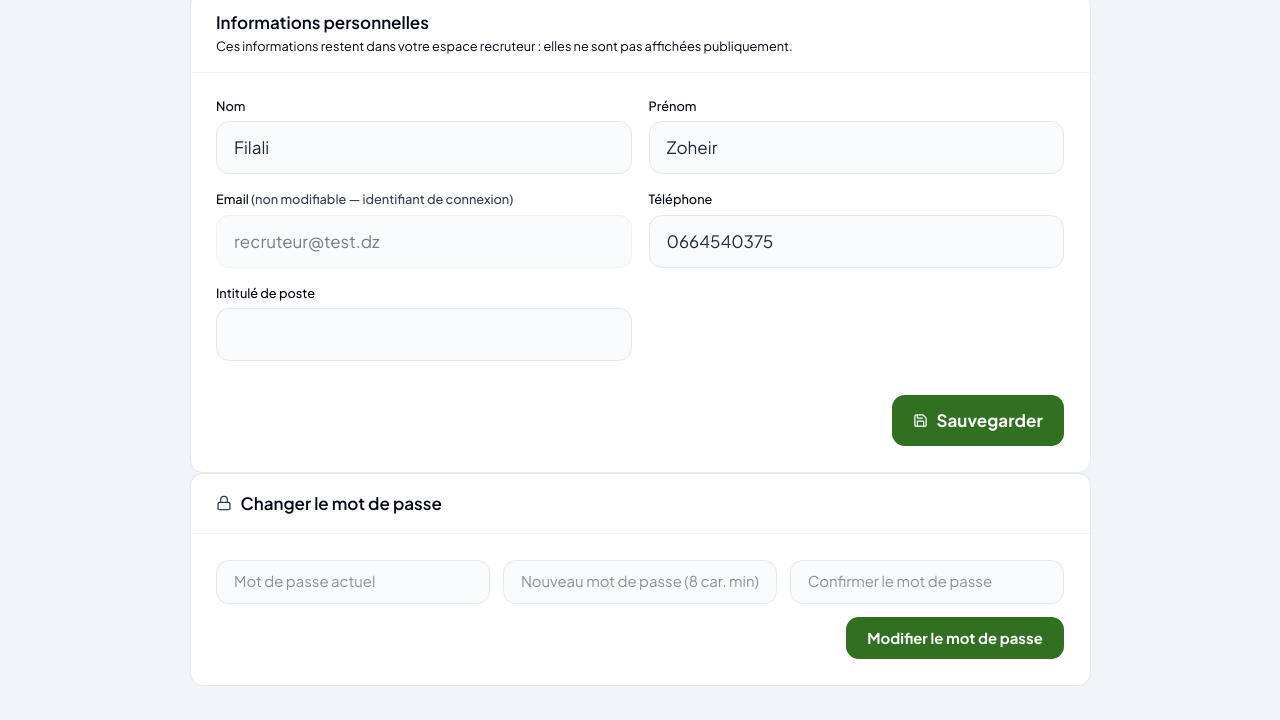
Test: ⚙️ UI & Logique - Composant <ParametresRecruteur /> › 🔴 MDP2 : Mots de passe ne correspondent pas → message sous le champ sans appel API
(page scrolled)
Expected: the field showing "Zoheir" below "Prénom" is shown, 648,122 -> 1064,174
In the password field with placeholder "Nouveau mot de passe (8 car. min)": x=640, y=582 503,560 -> 777,604, type "NouveauMdp456!"
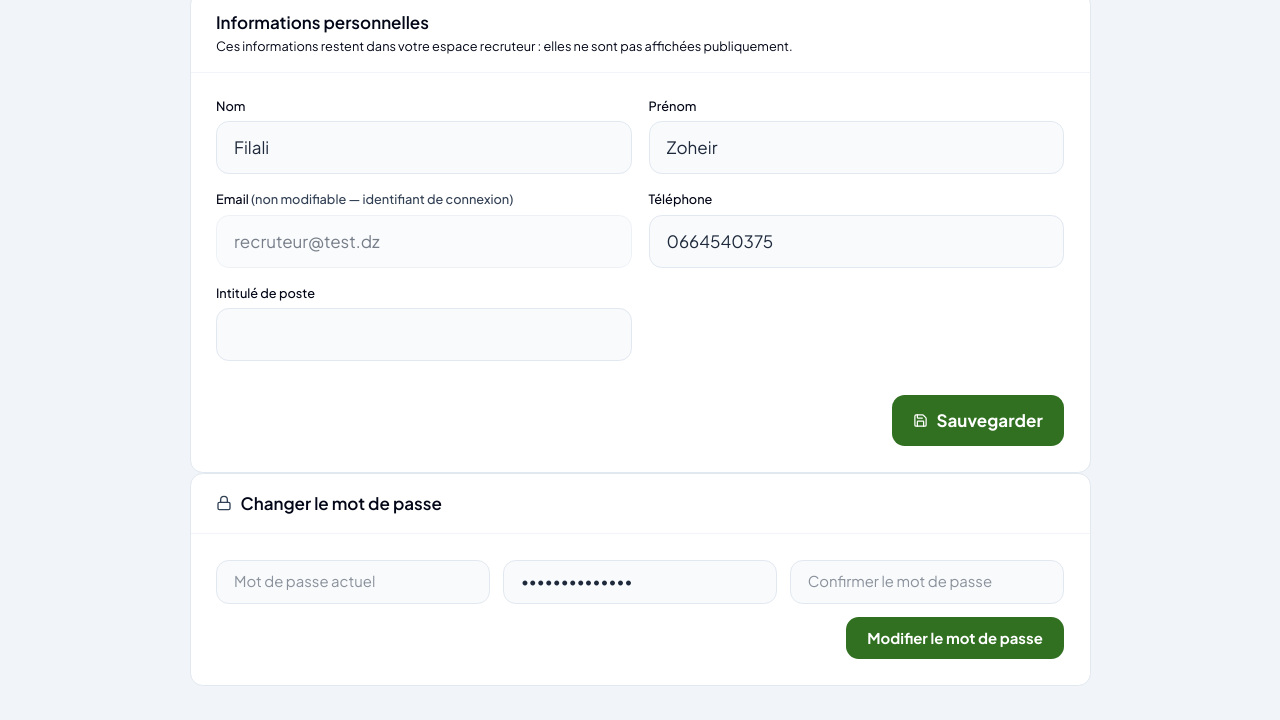
In the password field with placeholder "Confirmer le mot de passe": x=927, y=582 790,560 -> 1064,604, type "DifferentMdp999!"
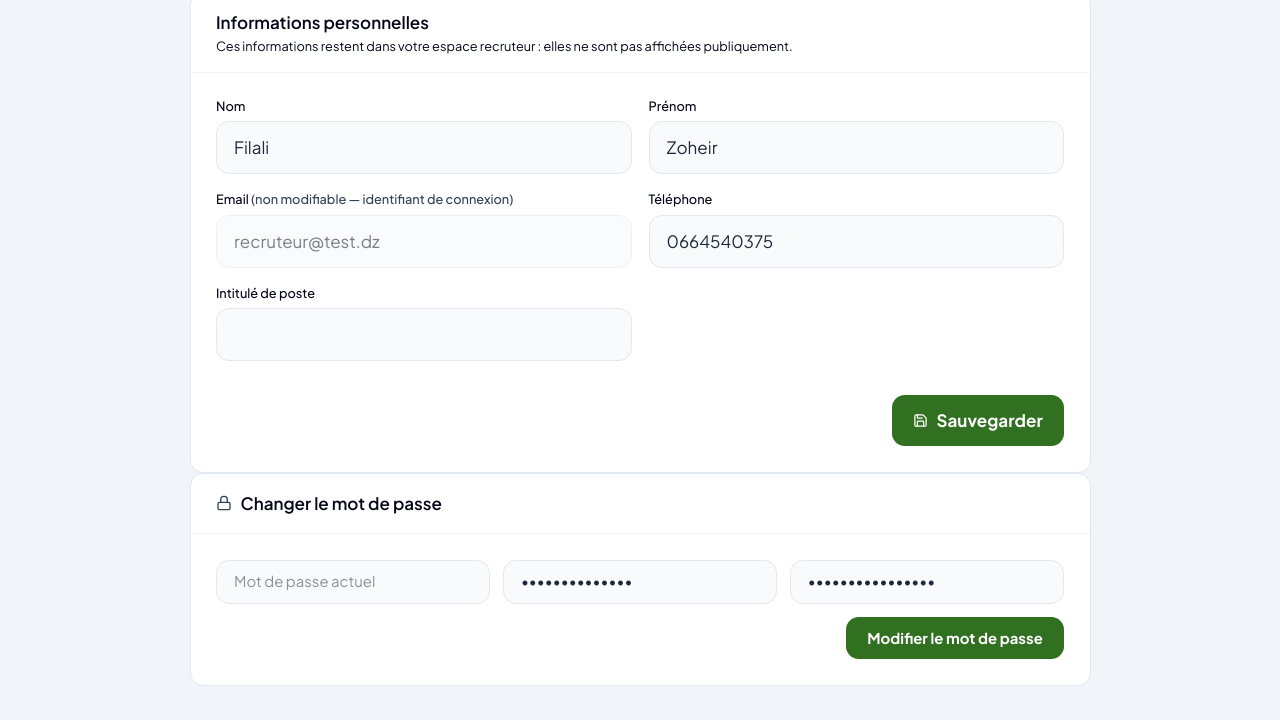
Click the button "Modifier le mot de passe": x=955, y=638 846,617 -> 1064,660
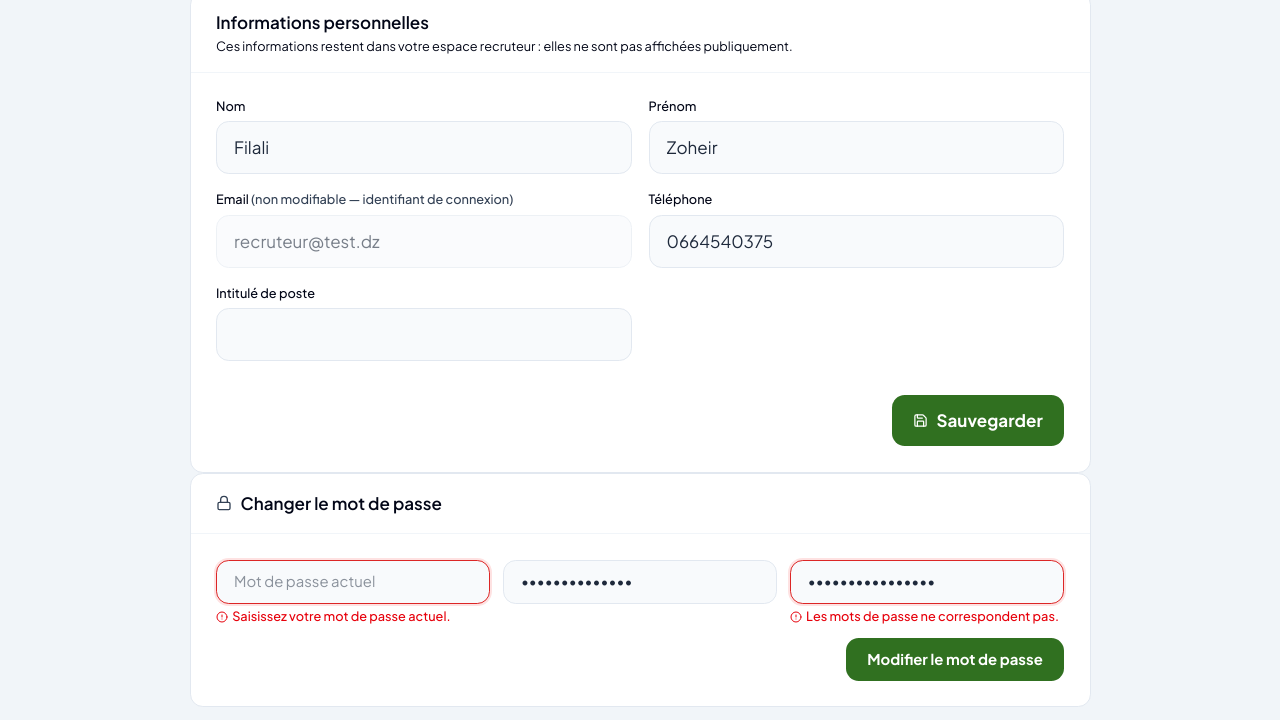
Expected: the text "Les mots de passe ne correspondent pas." is shown, 790,608 -> 1064,626
